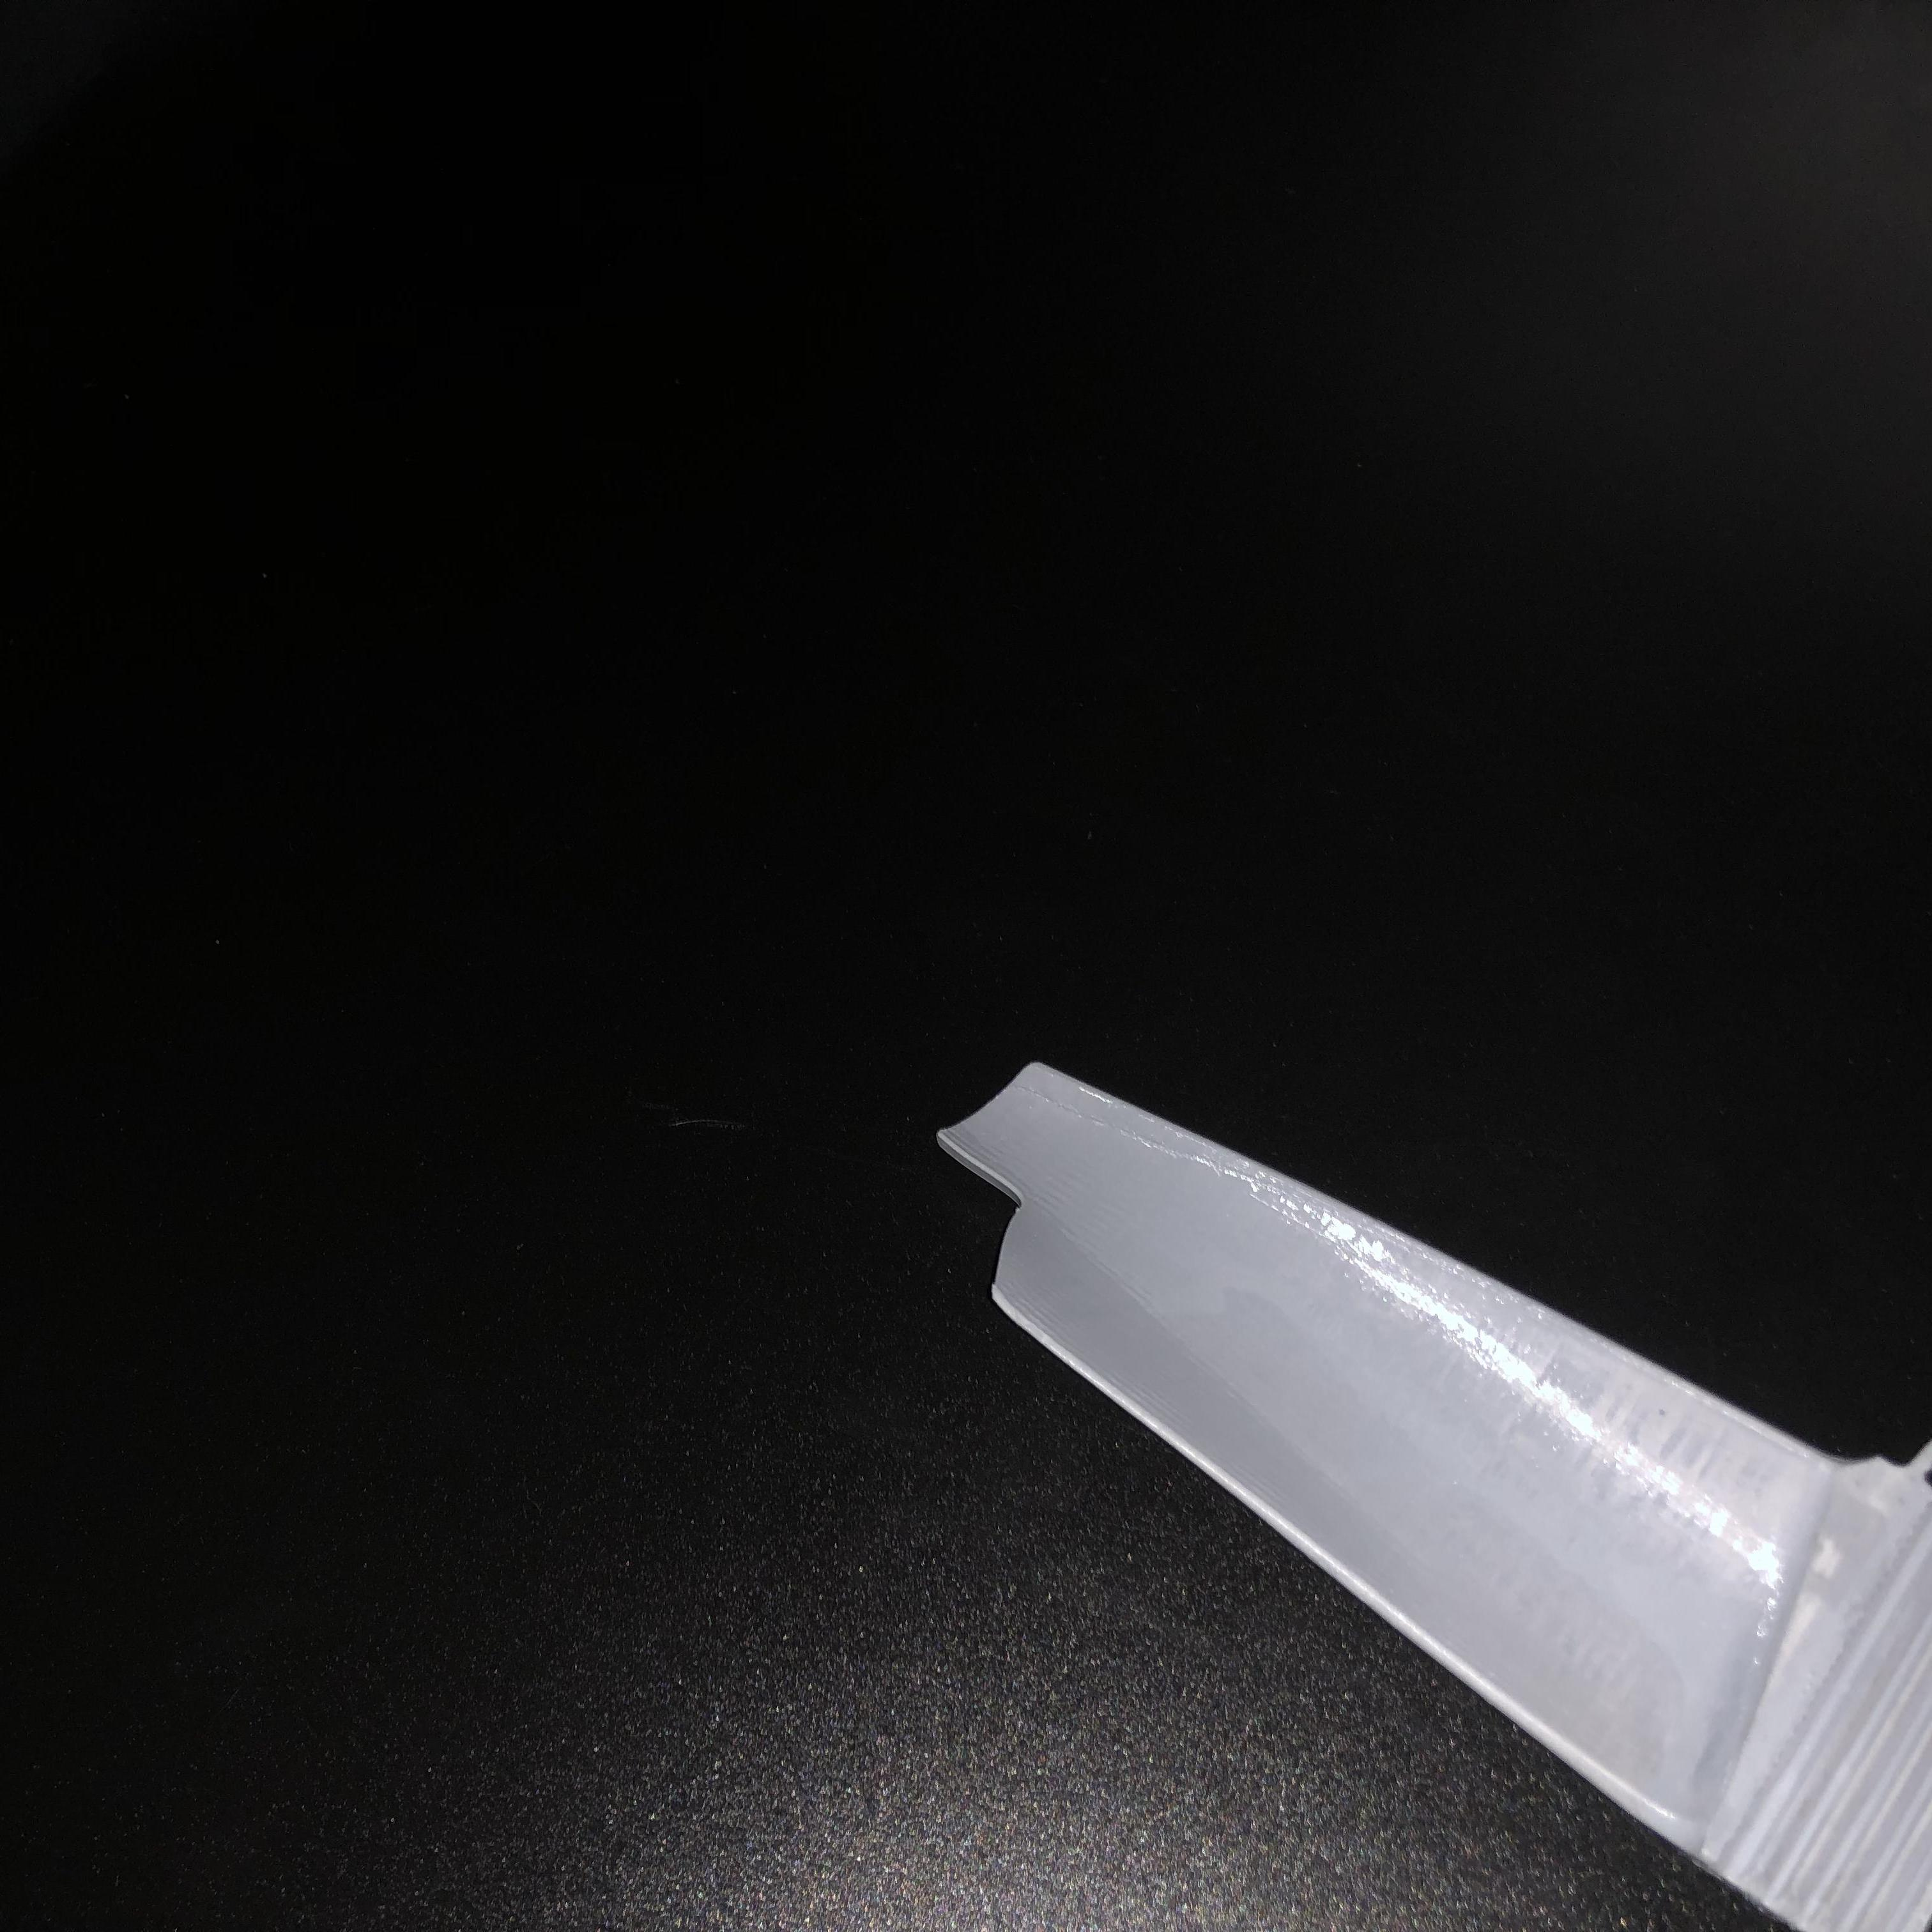fracture: (938, 1125, 1035, 1315)
